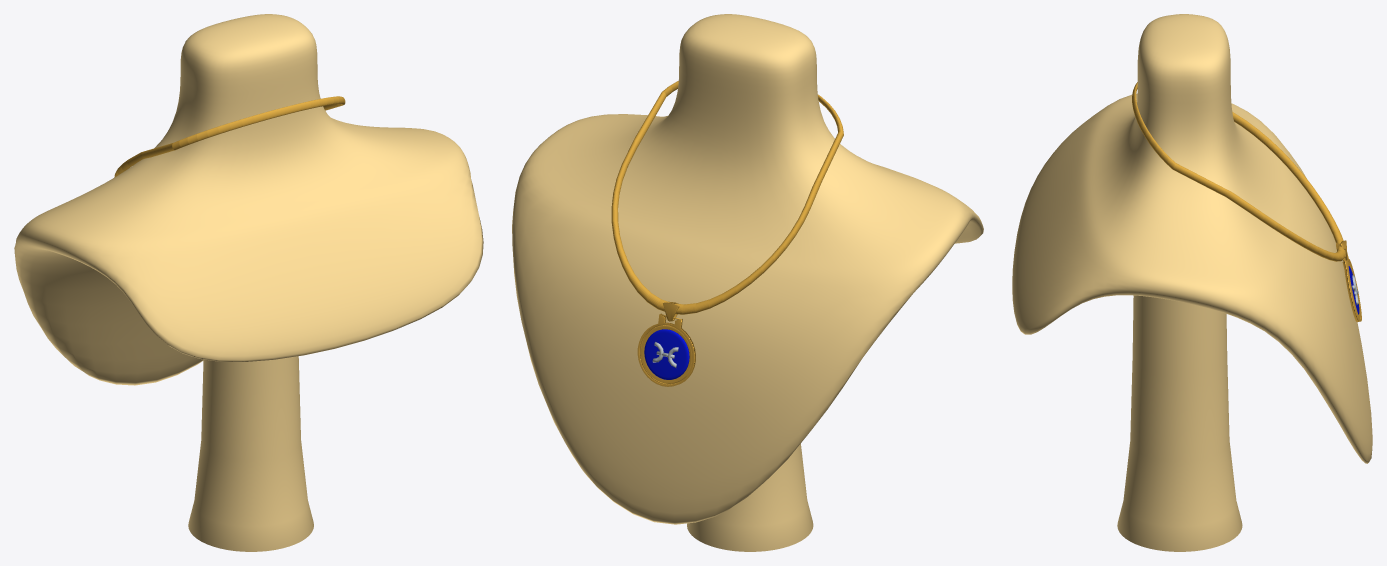
File: NewNeckRest.fbx
The picture shows the model from 3 angles, left to right: view 1: azimuth 30°, elevation 25°; view 2: azimuth 150°, elevation 25°; view 3: azimuth 270°, elevation 25°; orthographic projection.
Visible parts, largest first — view 1: Neck, NeckStand, String; view 2: Neck, NeckStand, String, Pendant_Face, Pendant_Blank; view 3: Neck, NeckStand, String, Pendant_Blank.
Part boxes in pixels (<box>): Neck: <box>14,14,483,385</box>; NeckStand: <box>188,356,313,551</box>; String: <box>114,96,345,177</box>; Neck: <box>512,14,983,524</box>; NeckStand: <box>687,443,813,551</box>; String: <box>611,81,843,314</box>; Pendant_Face: <box>644,329,689,379</box>; Pendant_Blank: <box>637,301,695,386</box>; Neck: <box>1012,14,1372,463</box>; NeckStand: <box>1117,295,1242,551</box>; String: <box>1132,82,1345,261</box>; Pendant_Blank: <box>1336,240,1361,322</box>.
Bounding box in the file's own units: 611 × 710 × 470.
